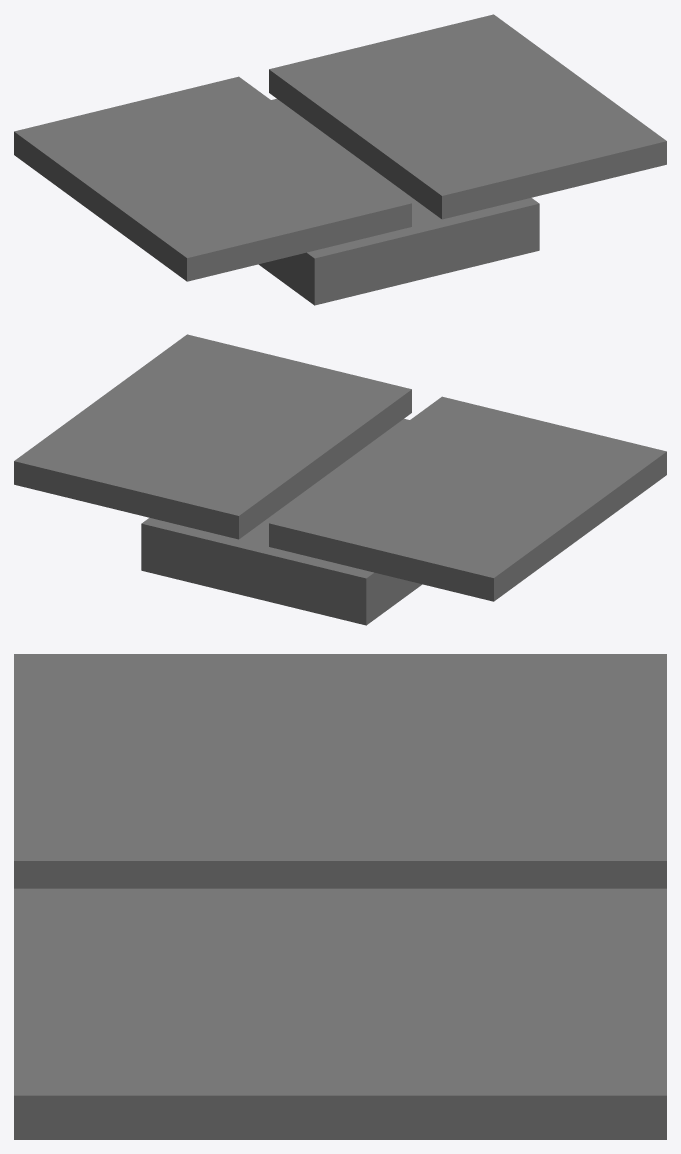
The model's file is С5_Кромки.glb.
3 renders of one model, top to bottom at view 1: azimuth 30°, elevation 25°; view 2: azimuth 150°, elevation 25°; view 3: azimuth 270°, elevation 25°, orthographic. The views are drawn at different scales.
Parts seen in each view (by area): view 1: node_id3; view 2: node_id3; view 3: node_id3.
Boxes of the visible parts, box(x1,y1,x2,y2) form: node_id3: box(14, 14, 666, 305); node_id3: box(14, 334, 666, 625); node_id3: box(14, 654, 666, 1139).
Bounding box in the file's own units: 0.512 × 0.08 × 0.32.
Materials: 1 (1 with a texture image).
